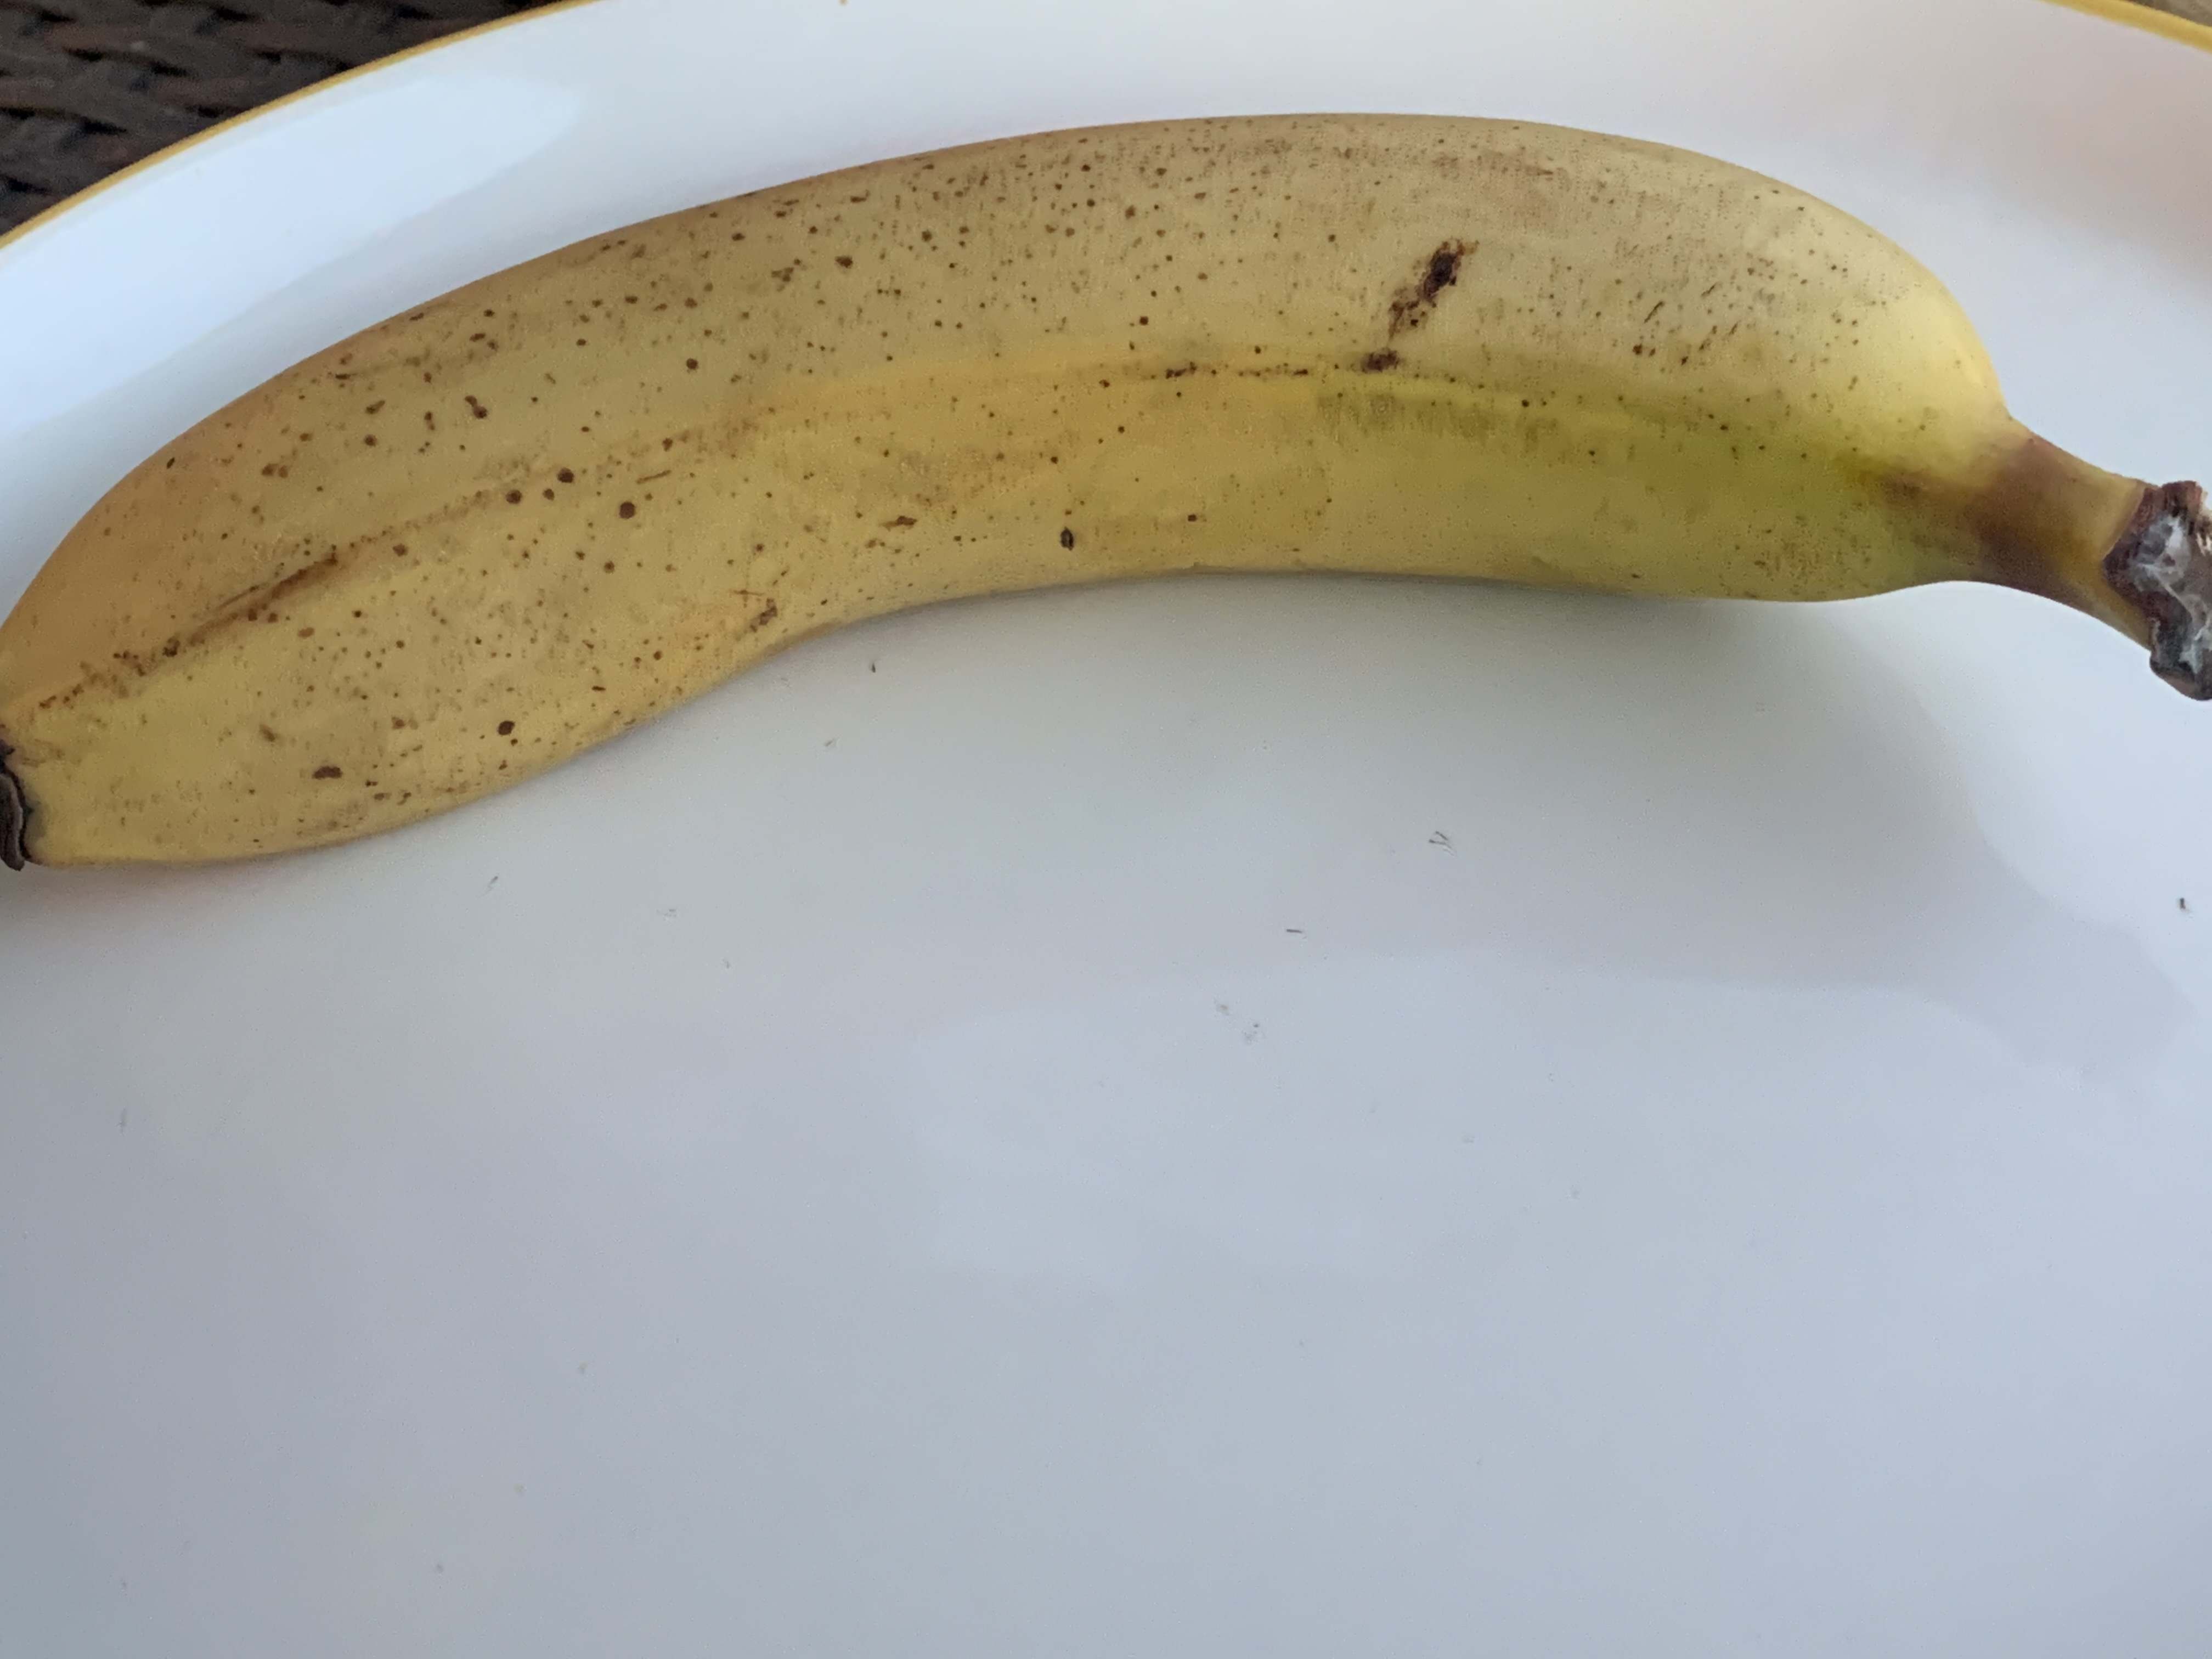banana: (12, 129, 2212, 899)
